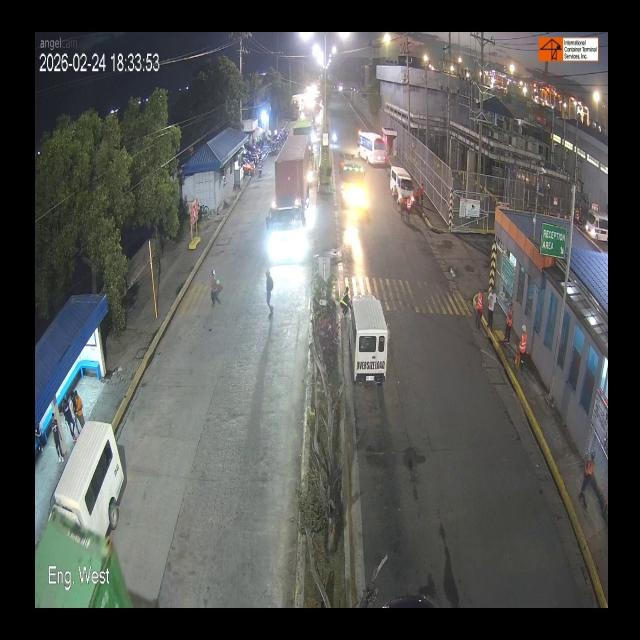bus: (359, 131, 386, 168)
car: (46, 431, 126, 532), (343, 281, 395, 385), (389, 164, 414, 197)
truck: (272, 139, 318, 273)
